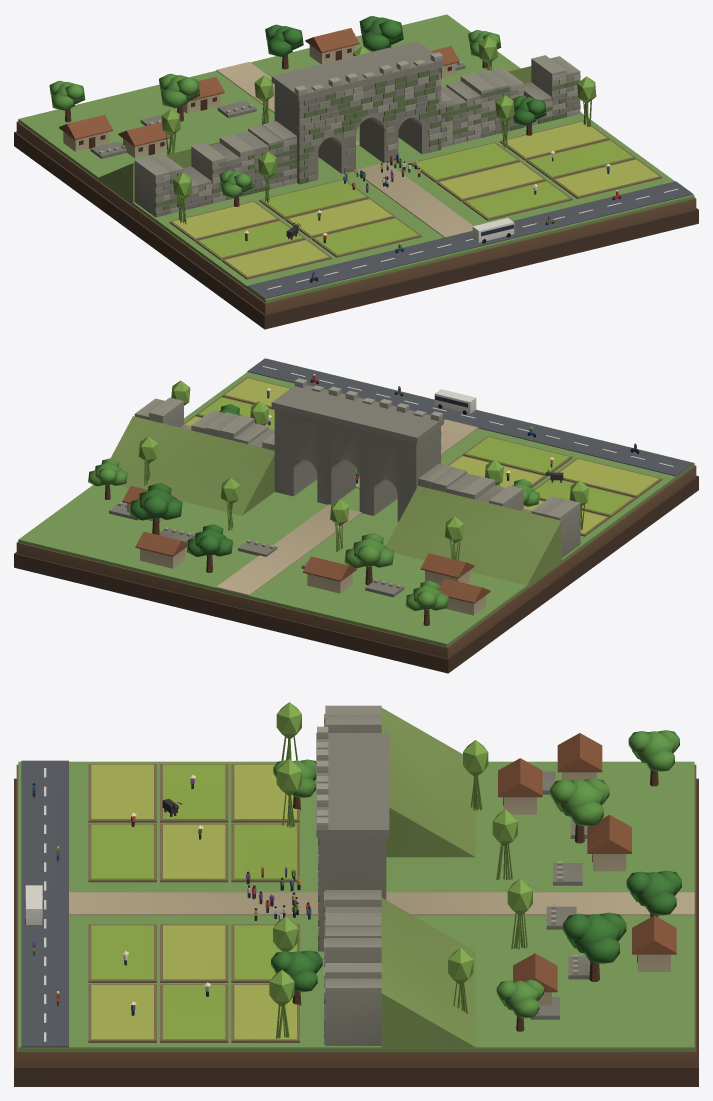
Rendered from thanh-nha-ho.glb.
3 views of the same model, one above another, from view 1: azimuth 30°, elevation 25°; view 2: azimuth 150°, elevation 25°; view 3: azimuth 270°, elevation 25° (orthographic). The views are drawn at different scales.
Parts seen in each view (by area): view 1: NH_NH_base; view 2: NH_NH_base; view 3: NH_NH_base.
Part boxes in pixels (x1=…): NH_NH_base: x1=14, y1=14, x2=698, y2=329; NH_NH_base: x1=14, y1=358, x2=698, y2=673; NH_NH_base: x1=14, y1=702, x2=698, y2=1086.
Size of the model in its own units: 92 by 24.8 by 92.
Materials: 1 (1 with a texture image).
